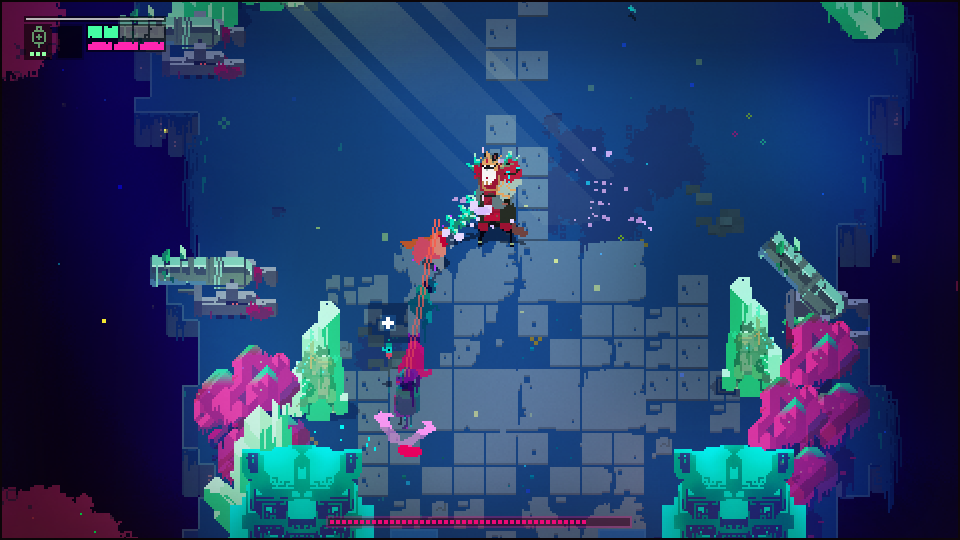hanged_man: (437, 146, 528, 253)
player: (395, 229, 451, 278)
